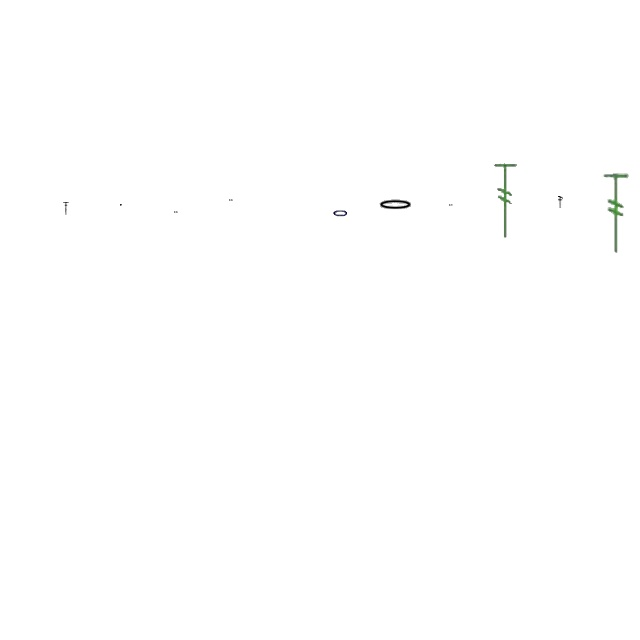chain: (378, 198, 414, 212), (332, 207, 350, 219), (174, 211, 178, 213), (229, 199, 233, 201), (449, 204, 453, 206), (120, 204, 122, 206)
double treble: (63, 202, 69, 216), (558, 196, 564, 208)
fan: (602, 172, 630, 256), (492, 160, 520, 242)
